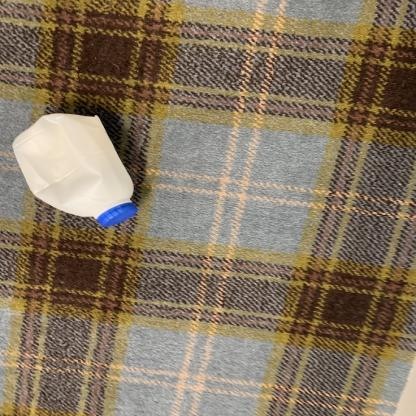trash: (9, 111, 148, 228)
